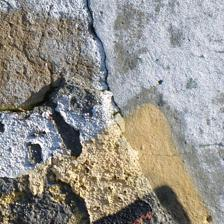Crack: (0, 80, 65, 150), (82, 21, 129, 83), (98, 9, 141, 75)
